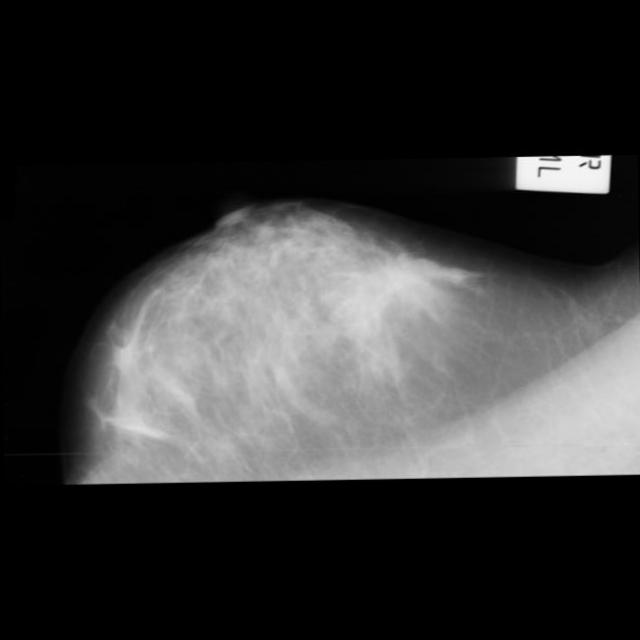SPIC: (322, 225, 442, 343)
